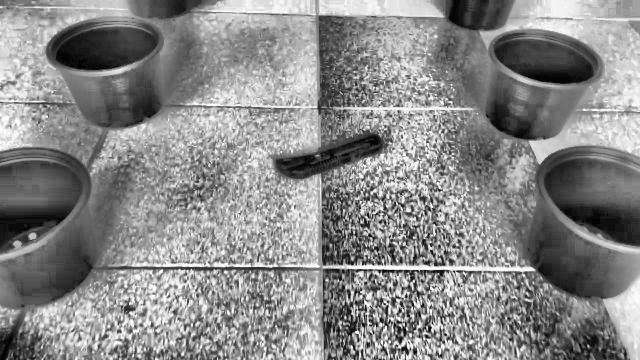pot: (0, 147, 98, 310), (526, 146, 640, 284), (44, 16, 164, 130), (482, 30, 604, 140)
